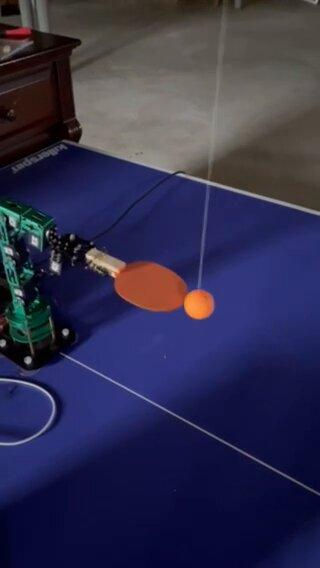oball: (185, 289, 213, 317)
